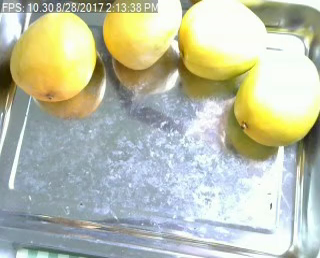Mango: (233, 48, 320, 147), (7, 9, 98, 102), (181, 0, 265, 80), (102, 0, 181, 71)
